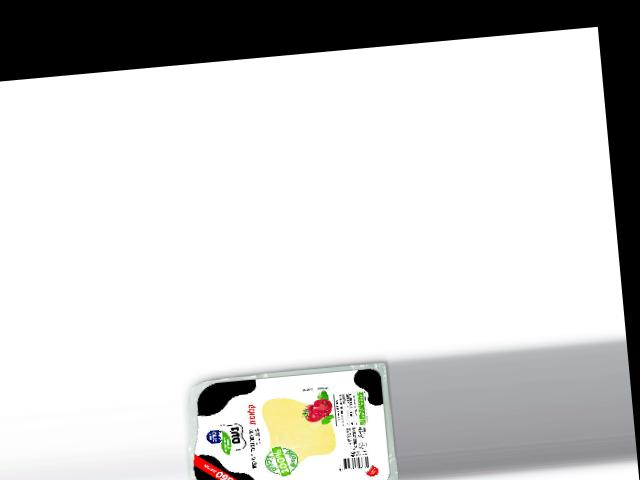cheese: (178, 361, 398, 480)
